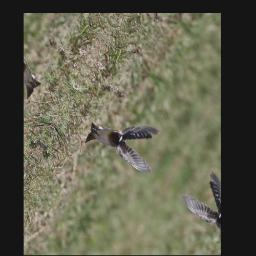Swallow: (82, 93, 171, 188)
